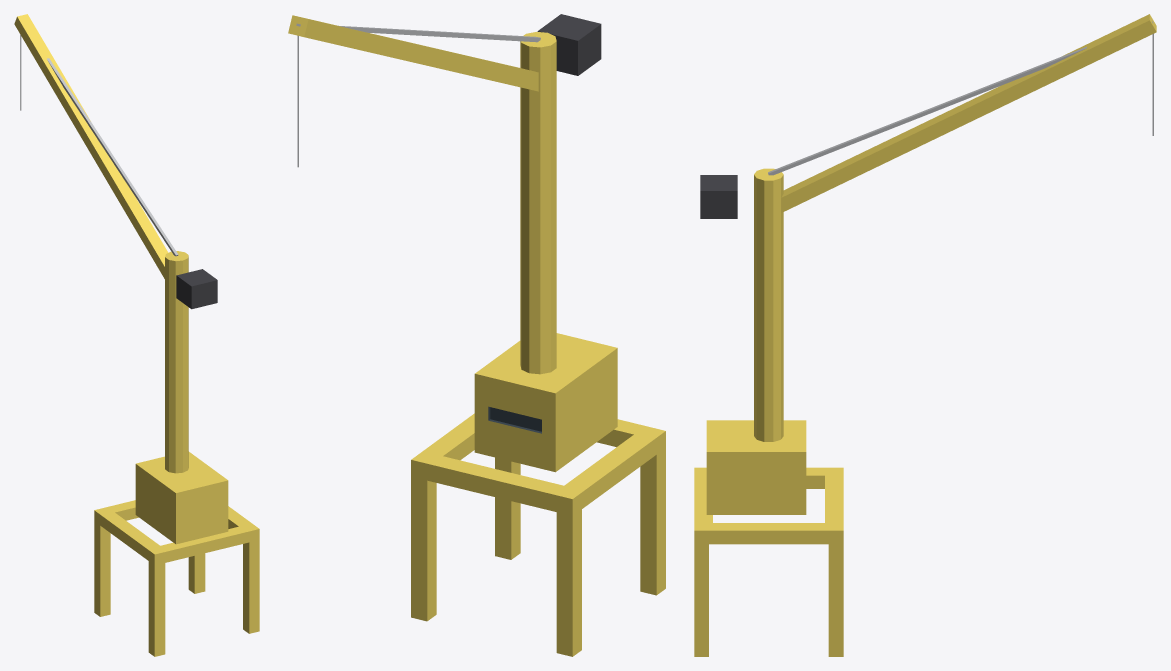
Rendered from crane.glb.
3 renders of one model, left to right at view 1: azimuth 30°, elevation 25°; view 2: azimuth 150°, elevation 25°; view 3: azimuth 270°, elevation 25°, orthographic. The views are drawn at different scales.
Visible parts, largest first — view 1: crane; view 2: crane; view 3: crane.
Part boxes in pixels (<box>): crane: <box>14,14,259,656</box>; crane: <box>288,14,665,656</box>; crane: <box>694,14,1156,656</box>.
Size of the model in its own units: 12 by 53.96 by 37.18.
